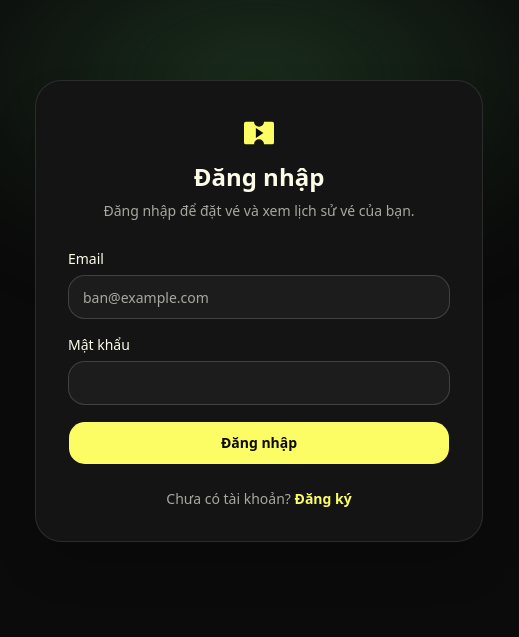
Scenario: Login form › too many attempts: an alert on the form, the visitor stays on the page
Type "an@example.com" into the field labelled "Email".
click(259, 297); type("an@example.com")  # box [68,275,450,319]
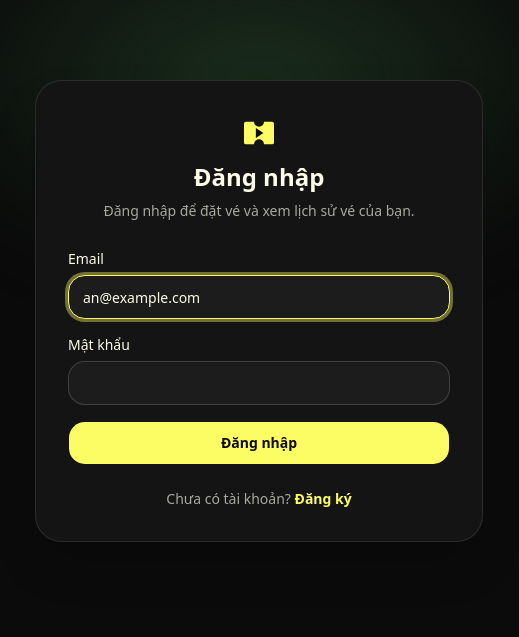
Type "mat-khau-dai" into the password field labelled "Mật khẩu".
click(259, 383); type("mat-khau-dai")  # box [68,361,450,405]
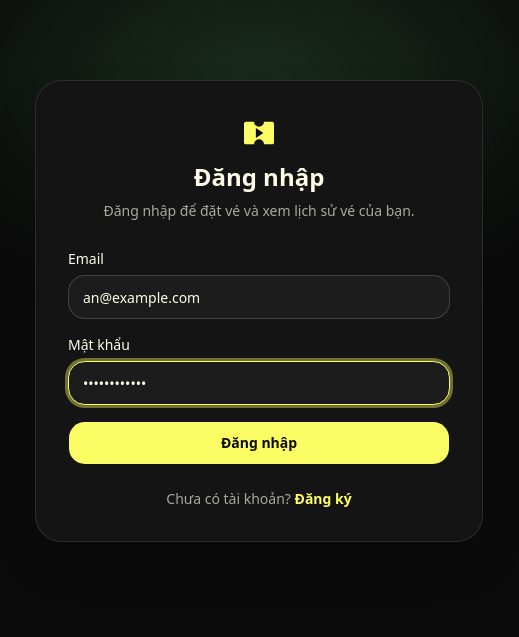
Click the button "Đăng nhập".
click(259, 443)  # box [68,421,450,465]
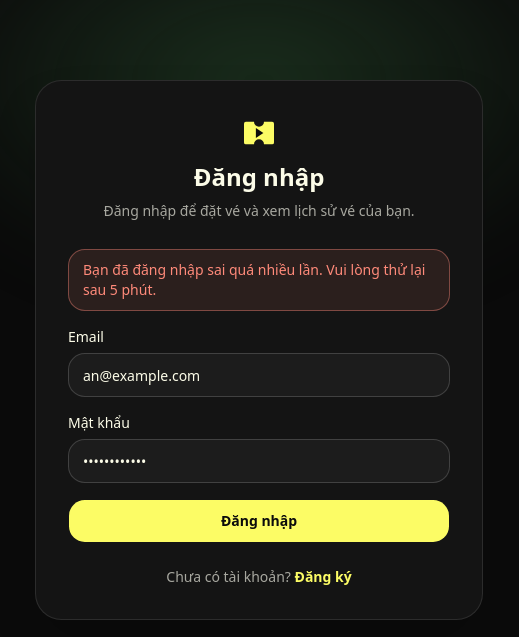
expect the message reads "Bạn đã đăng nhập sai quá nhiều lần. Vui lòng thử lại sau 5 phút.": met, box [83,260,425,299]
